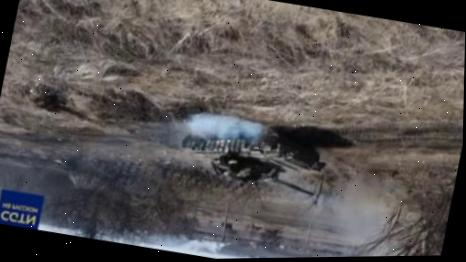tank: (173, 110, 332, 202)
